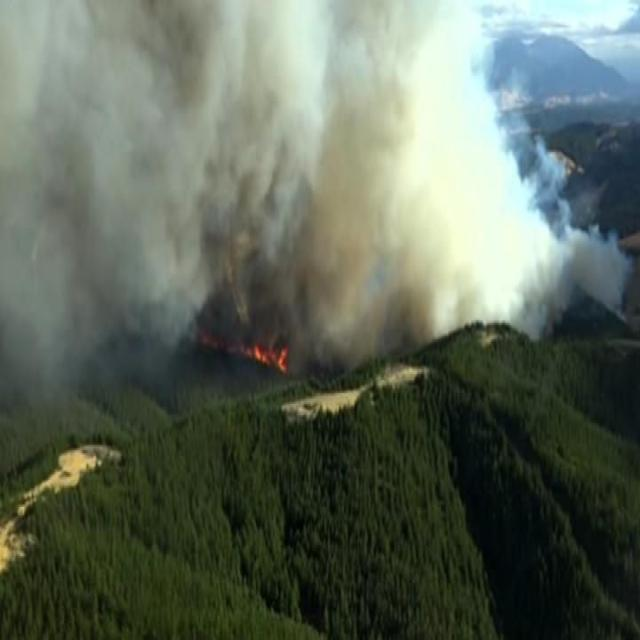Fire: (183, 308, 299, 377)
Smoke: (16, 0, 546, 328)
